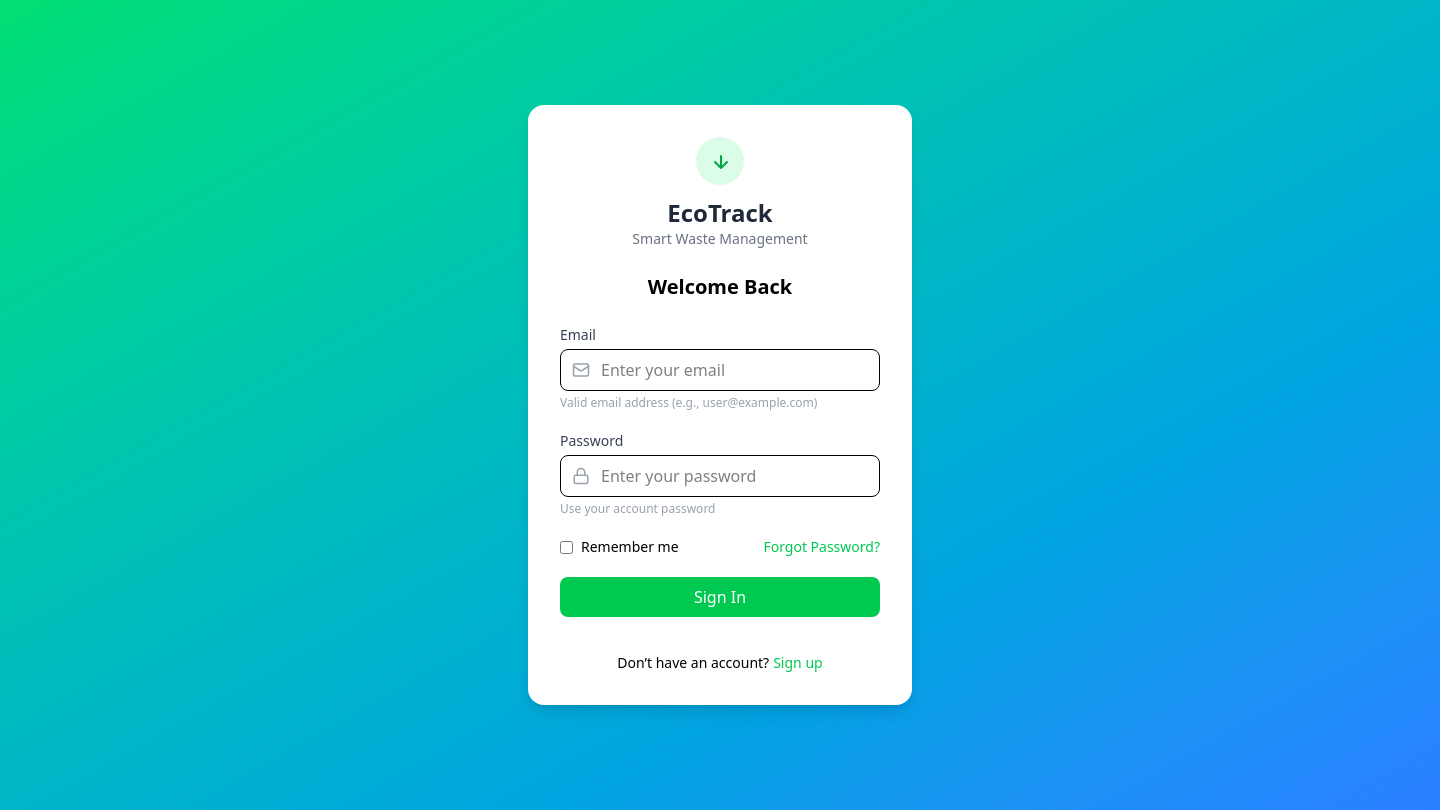
Test: Login › shows error on failed signin
Type "u@e.com" into the field with placeholder "Enter your email".
click(720, 370); type("u@e.com")  # box [560,349,880,391]
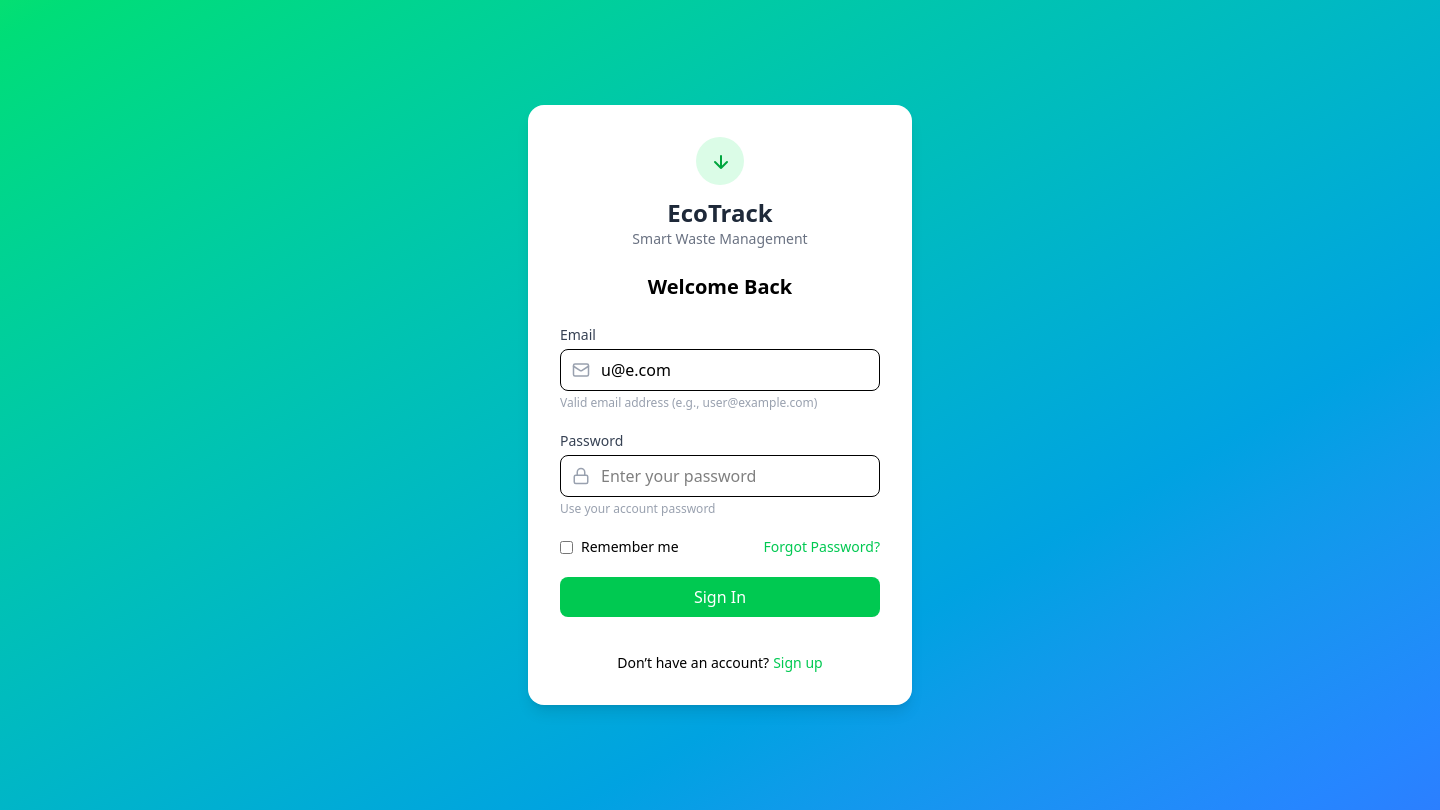
Type "bad" into the password field with placeholder "Enter your password".
click(720, 476); type("bad")  # box [560,455,880,497]
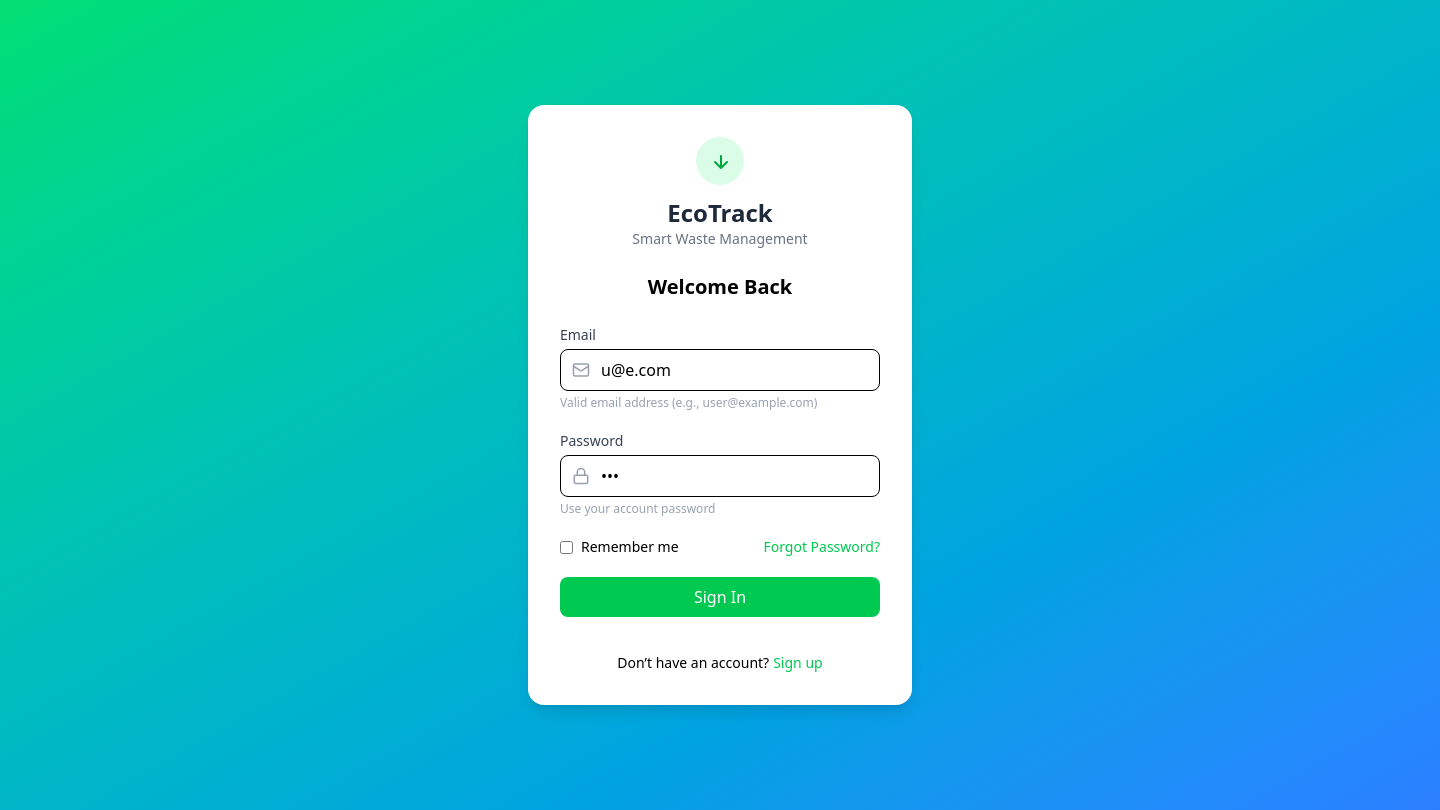
Click the button "Sign In".
click(720, 597)  # box [560,577,880,617]
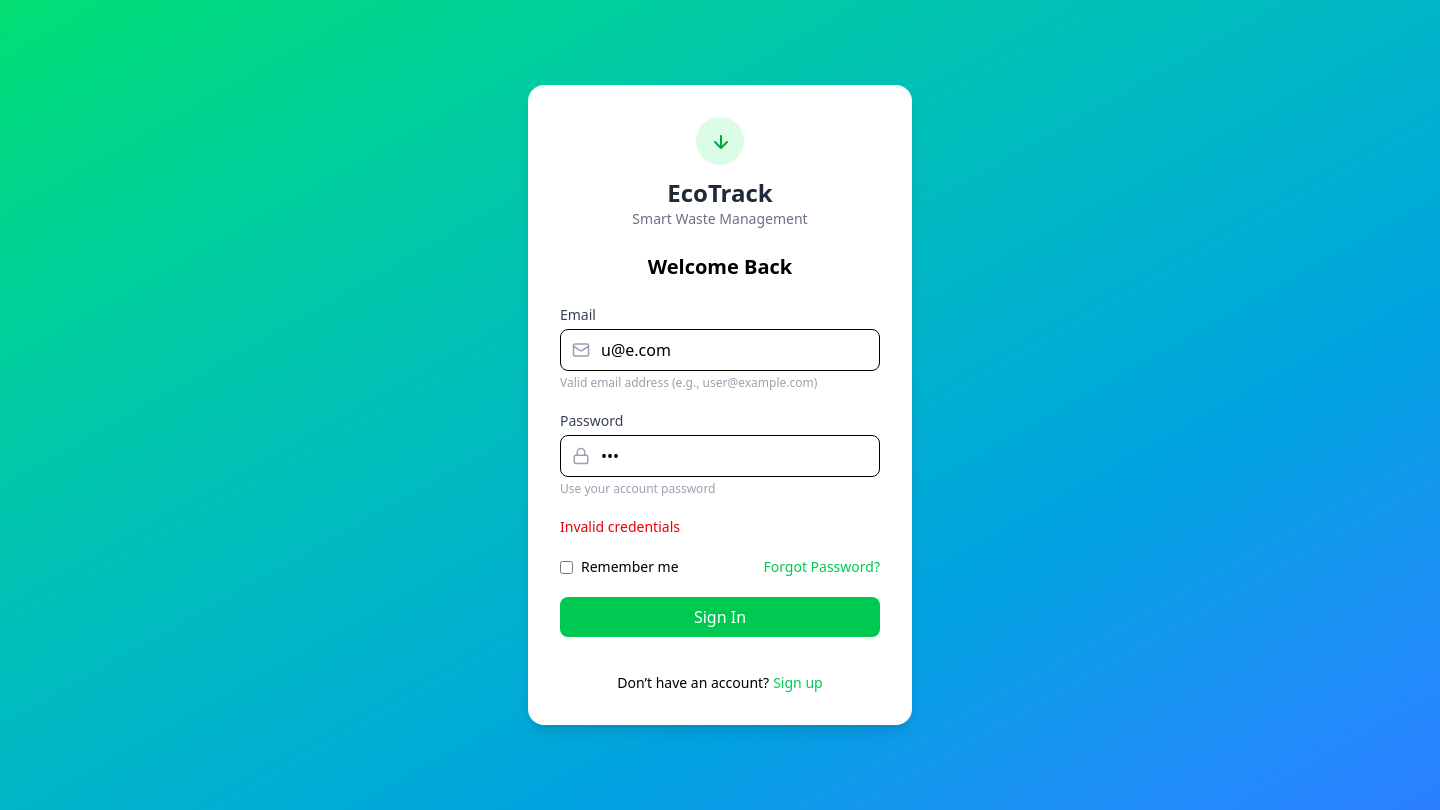
Check: the text "Invalid credentials" is shown, box [560,517,680,536]
